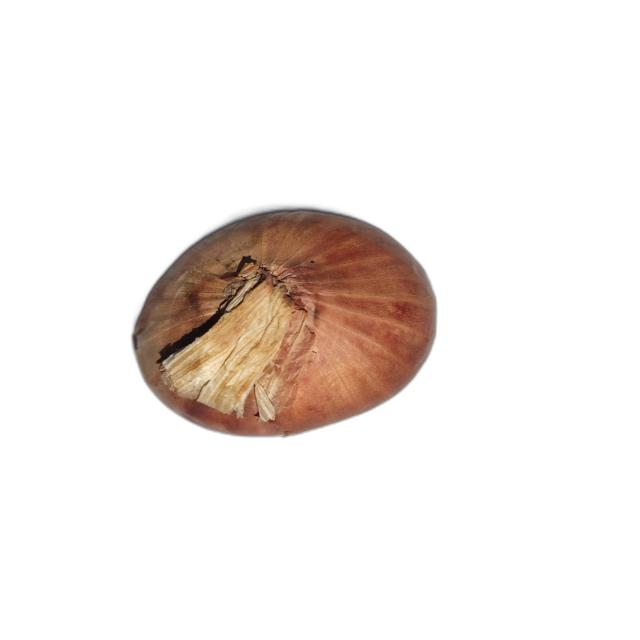onion: (128, 210, 440, 440)
